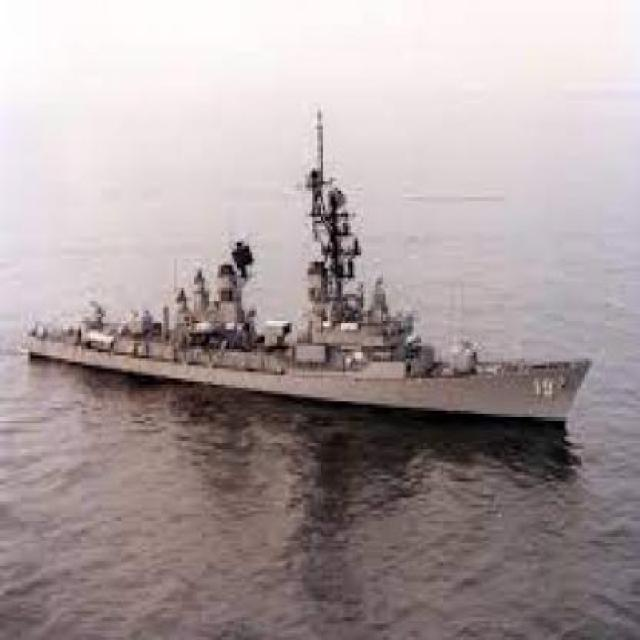warship2: (29, 110, 596, 444)
